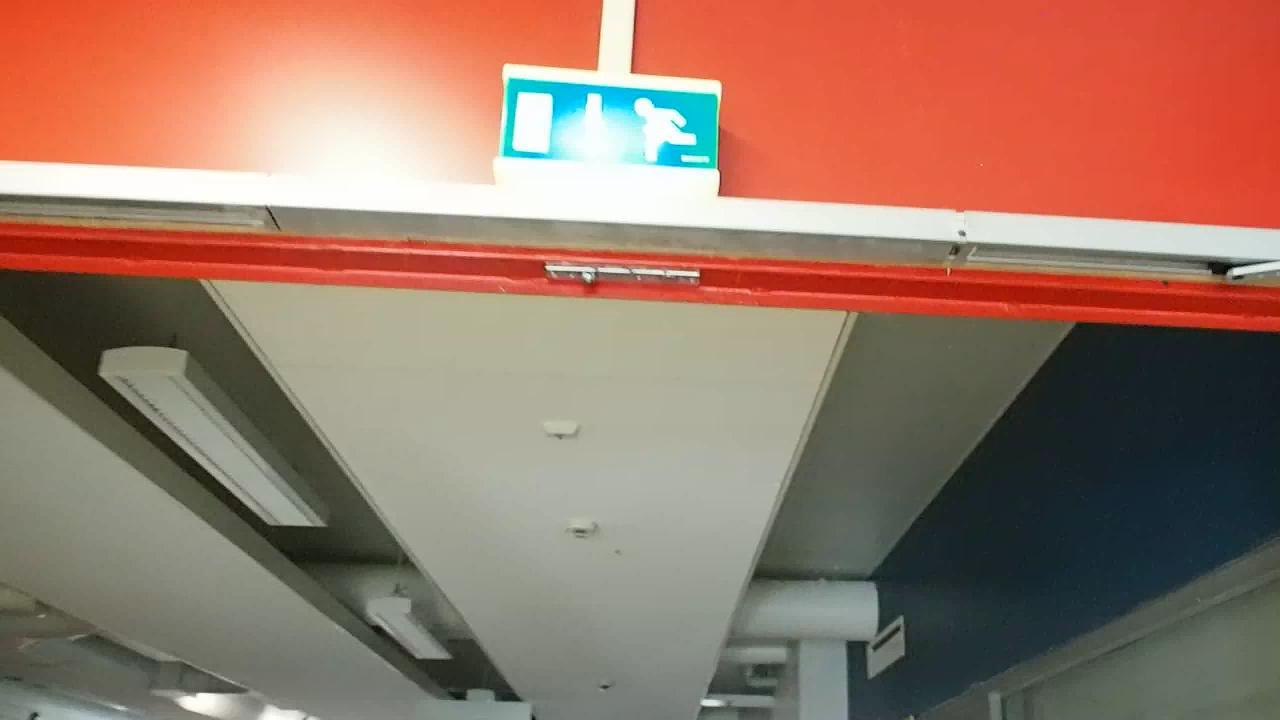exit: (496, 69, 723, 170)
